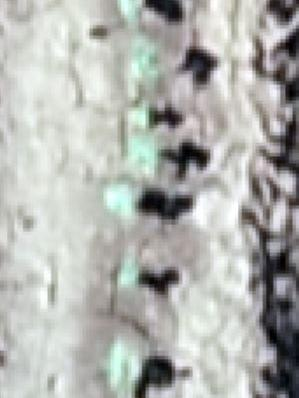cotton: (106, 185, 135, 210), (111, 359, 136, 387), (131, 142, 155, 166), (132, 50, 154, 70), (120, 1, 140, 20), (120, 264, 139, 282), (131, 109, 152, 125)
